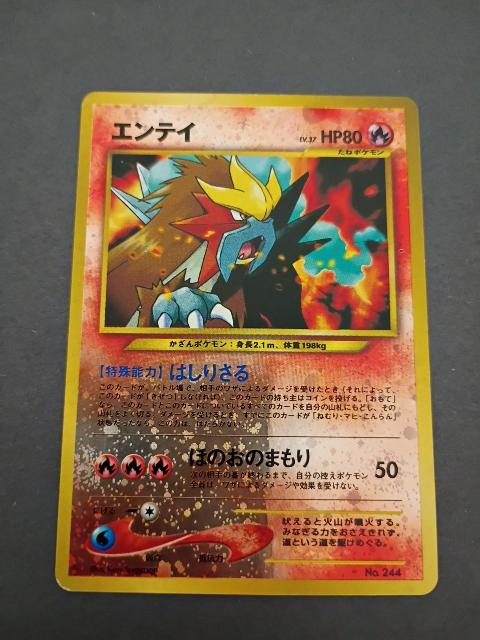Card: (51, 87, 445, 600)
Name: (105, 116, 202, 148)
